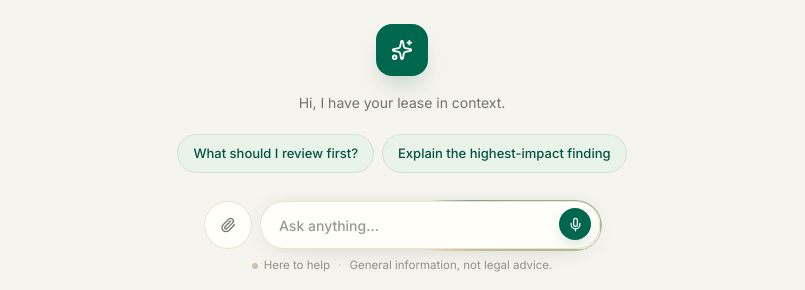
Test: AssistantConsole › sends a suggestion straight to the agent
Click the button "What should I review first?" at (276, 153), box [178, 134, 374, 173]
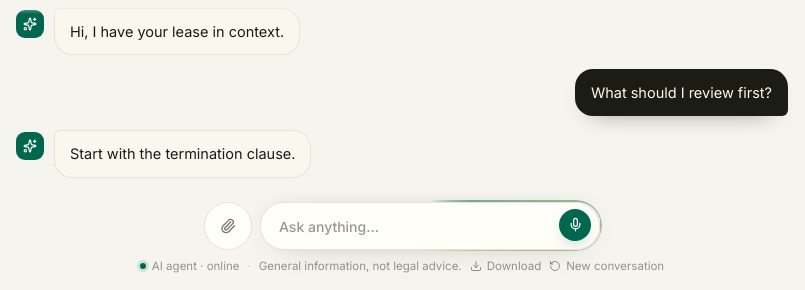
expect the text "Start with the termination clause." is shown: met, box [70, 142, 296, 166]
